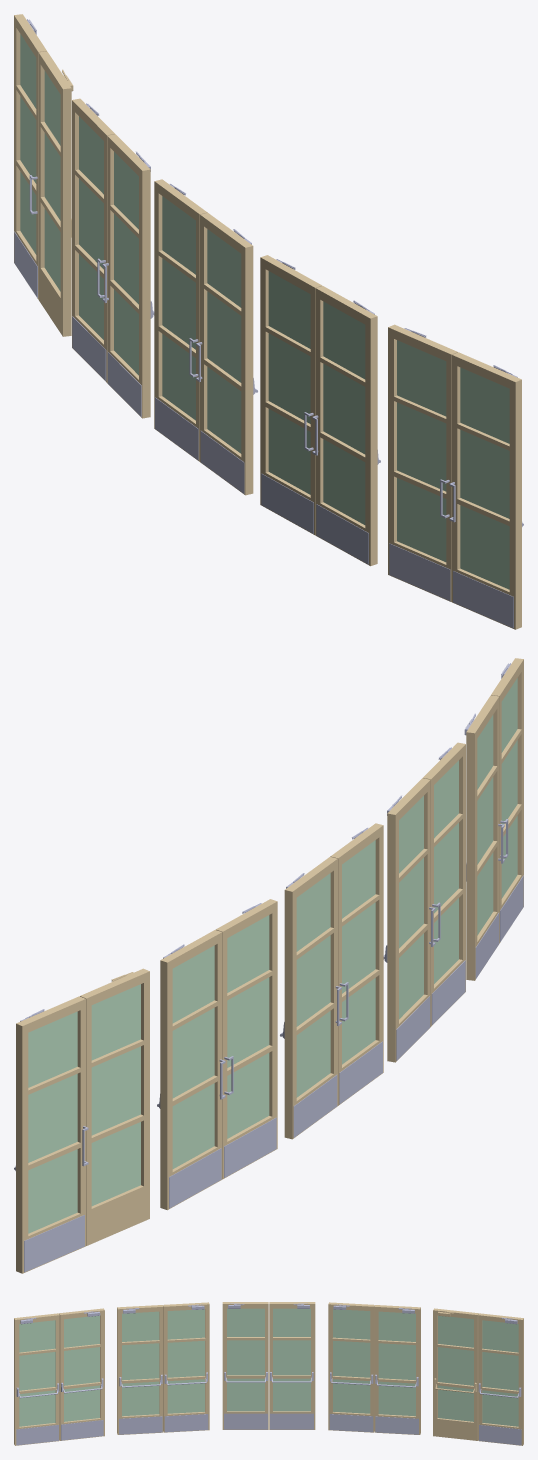
Rendered from spiral_room_10_doors.fbx.
3 renders of one model, top to bottom at view 1: azimuth 30°, elevation 25°; view 2: azimuth 150°, elevation 25°; view 3: azimuth 270°, elevation 25°, orthographic. The views are drawn at different scales.
Parts seen in each view (by area): view 1: Doors-All; view 2: Doors-All; view 3: Doors-All.
Boxes of the visible parts, x1,y1,x2,y2 form: Doors-All: (14,14,523,629); Doors-All: (14,658,523,1273); Doors-All: (14,1302,523,1445).
Bounding box in the file's own units: 107 × 301 × 1101.
